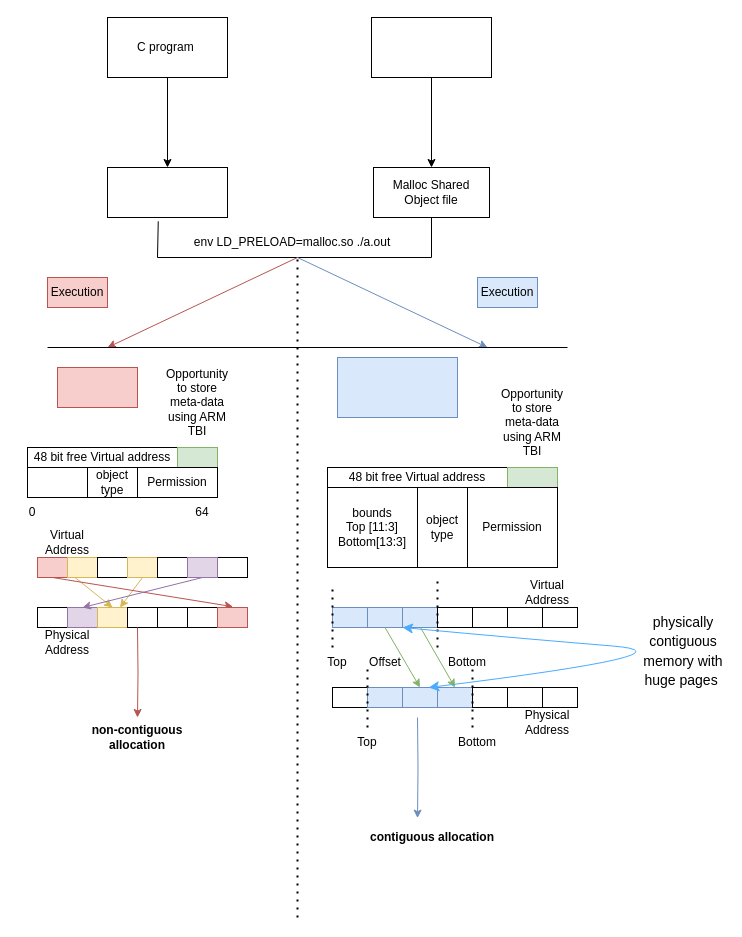
This 742x937 diagram has some shape labels left out. Here are the shapes that lost their labels. From the top down, the centre of each, then its label:
the point at 431,47: Custom Allocator
the point at 167,192: Pure Cap binary
the point at 97,387: Standard mmap()
the point at 397,387: Current proposal mmap()
the point at 57,482: bounds
